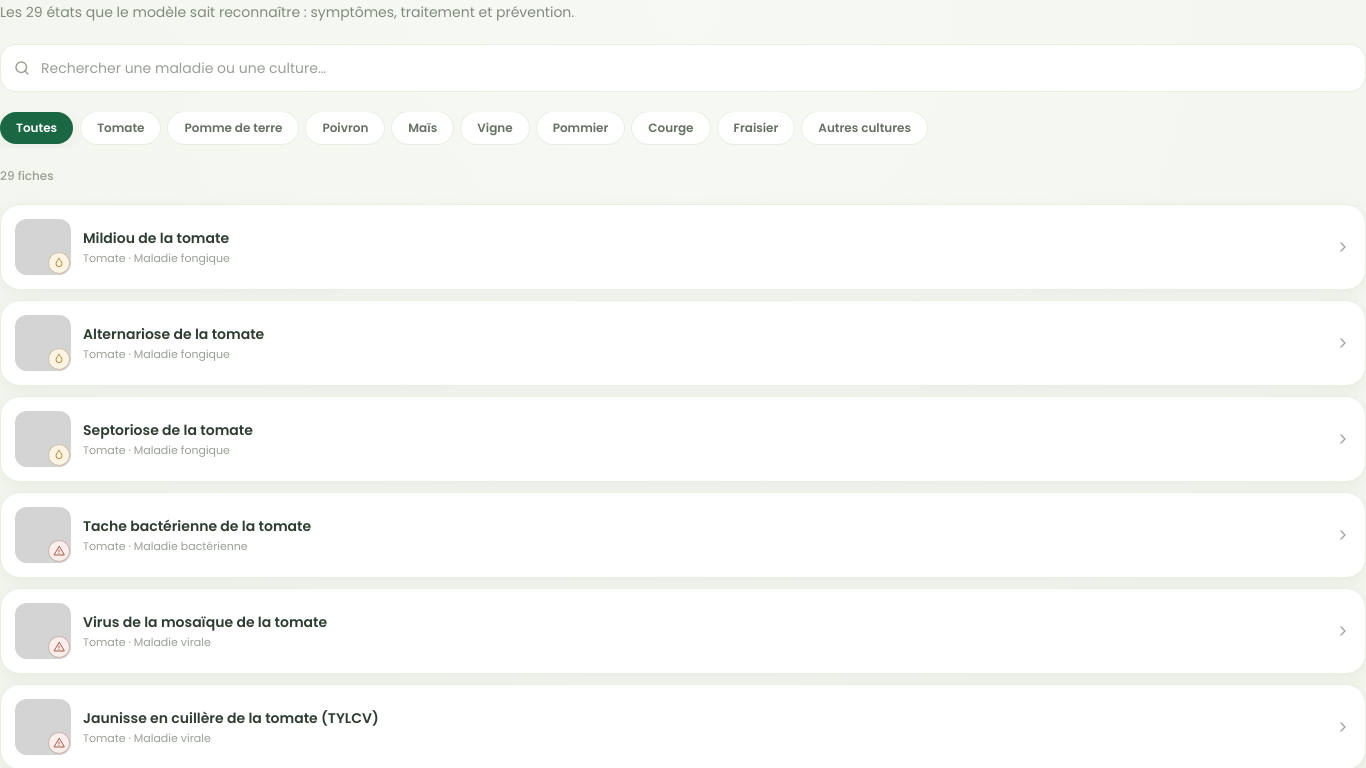
Test: message clair quand rien ne correspond
Type "zzzz" into the search field at (697, 68), box [41, 58, 1353, 78]
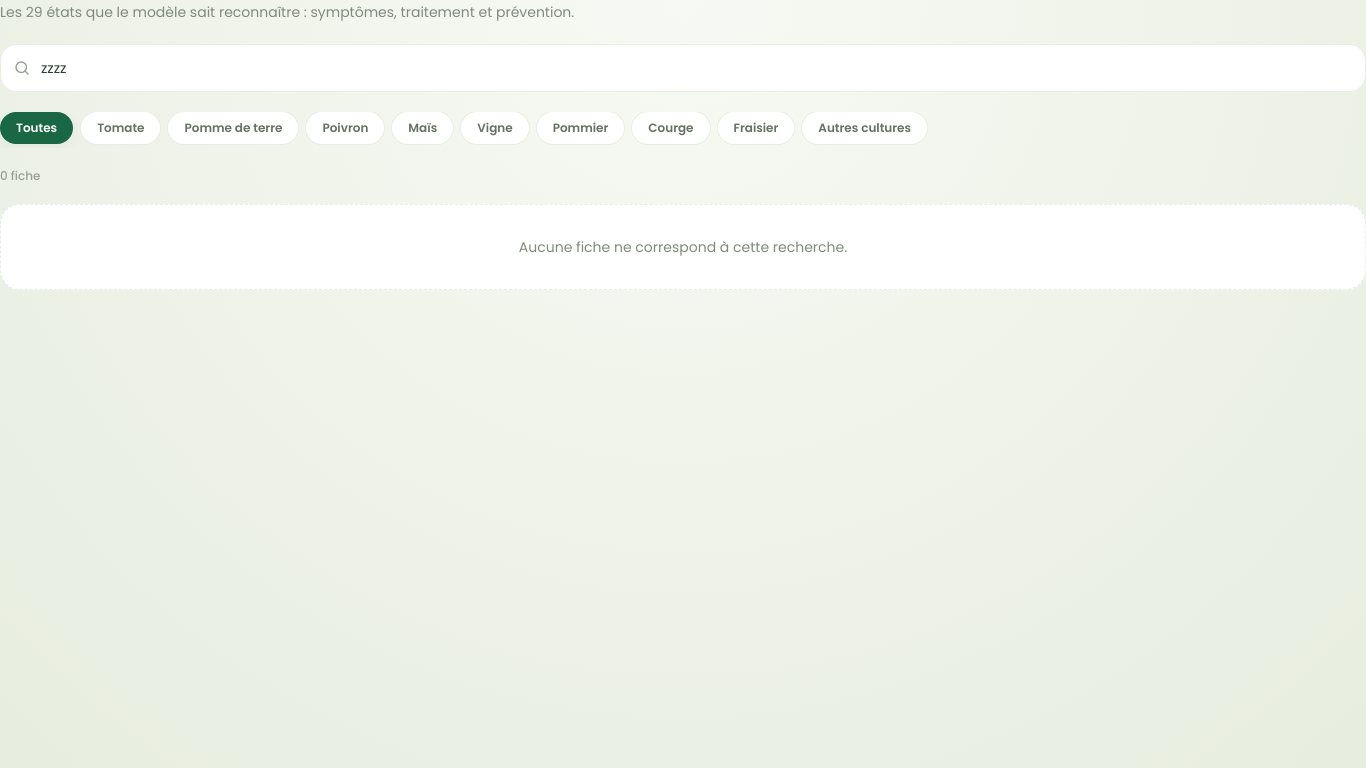
Check: the text "Aucune fiche ne correspond à cette recherche." is shown, box [0, 204, 1365, 290]
